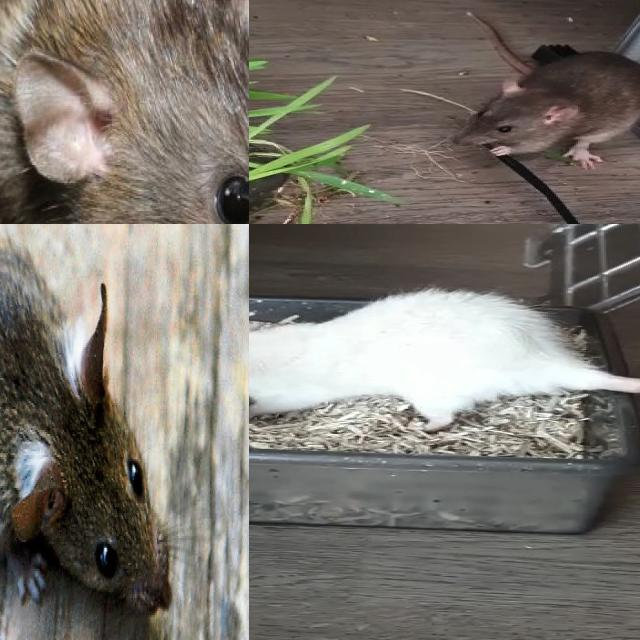rat: (0, 224, 173, 621), (0, 0, 249, 224), (249, 288, 576, 429), (449, 51, 640, 169)
